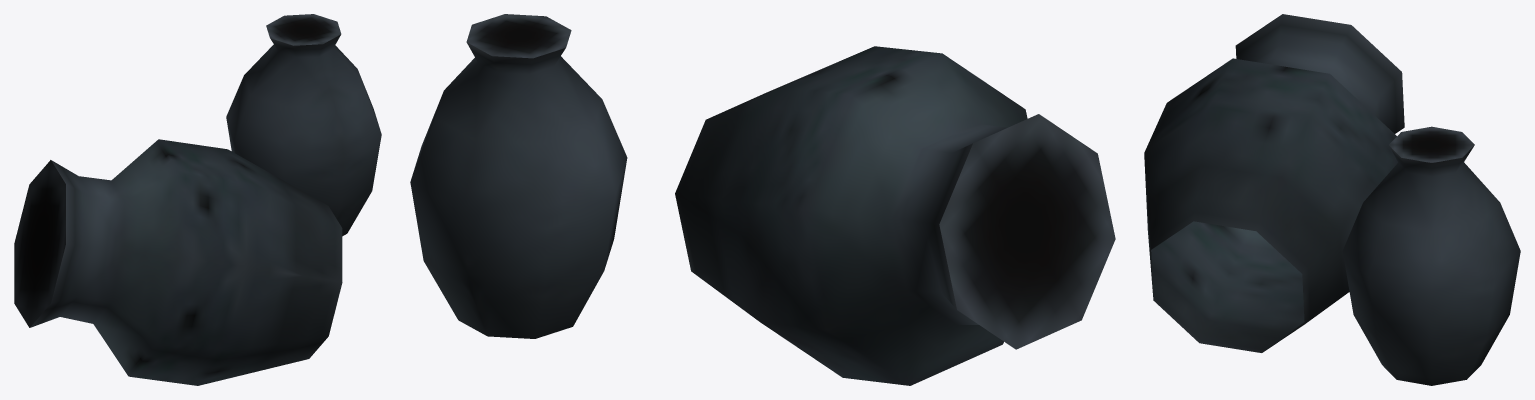
Rendered from Area09_2.fbx.
3 renders of one model, left to right at view 1: azimuth 30°, elevation 25°; view 2: azimuth 150°, elevation 25°; view 3: azimuth 270°, elevation 25°, orthographic. The views are drawn at different scales.
Parts seen in each view (by area): view 1: Area09_2; view 2: Area09_2; view 3: Area09_2.
Boxes of the visible parts, bbox=[...] form: Area09_2: bbox=[14, 14, 381, 385]; Area09_2: bbox=[410, 14, 1115, 385]; Area09_2: bbox=[1144, 14, 1520, 385].
Bounding box in the file's own units: 166 × 92.46 × 119.
